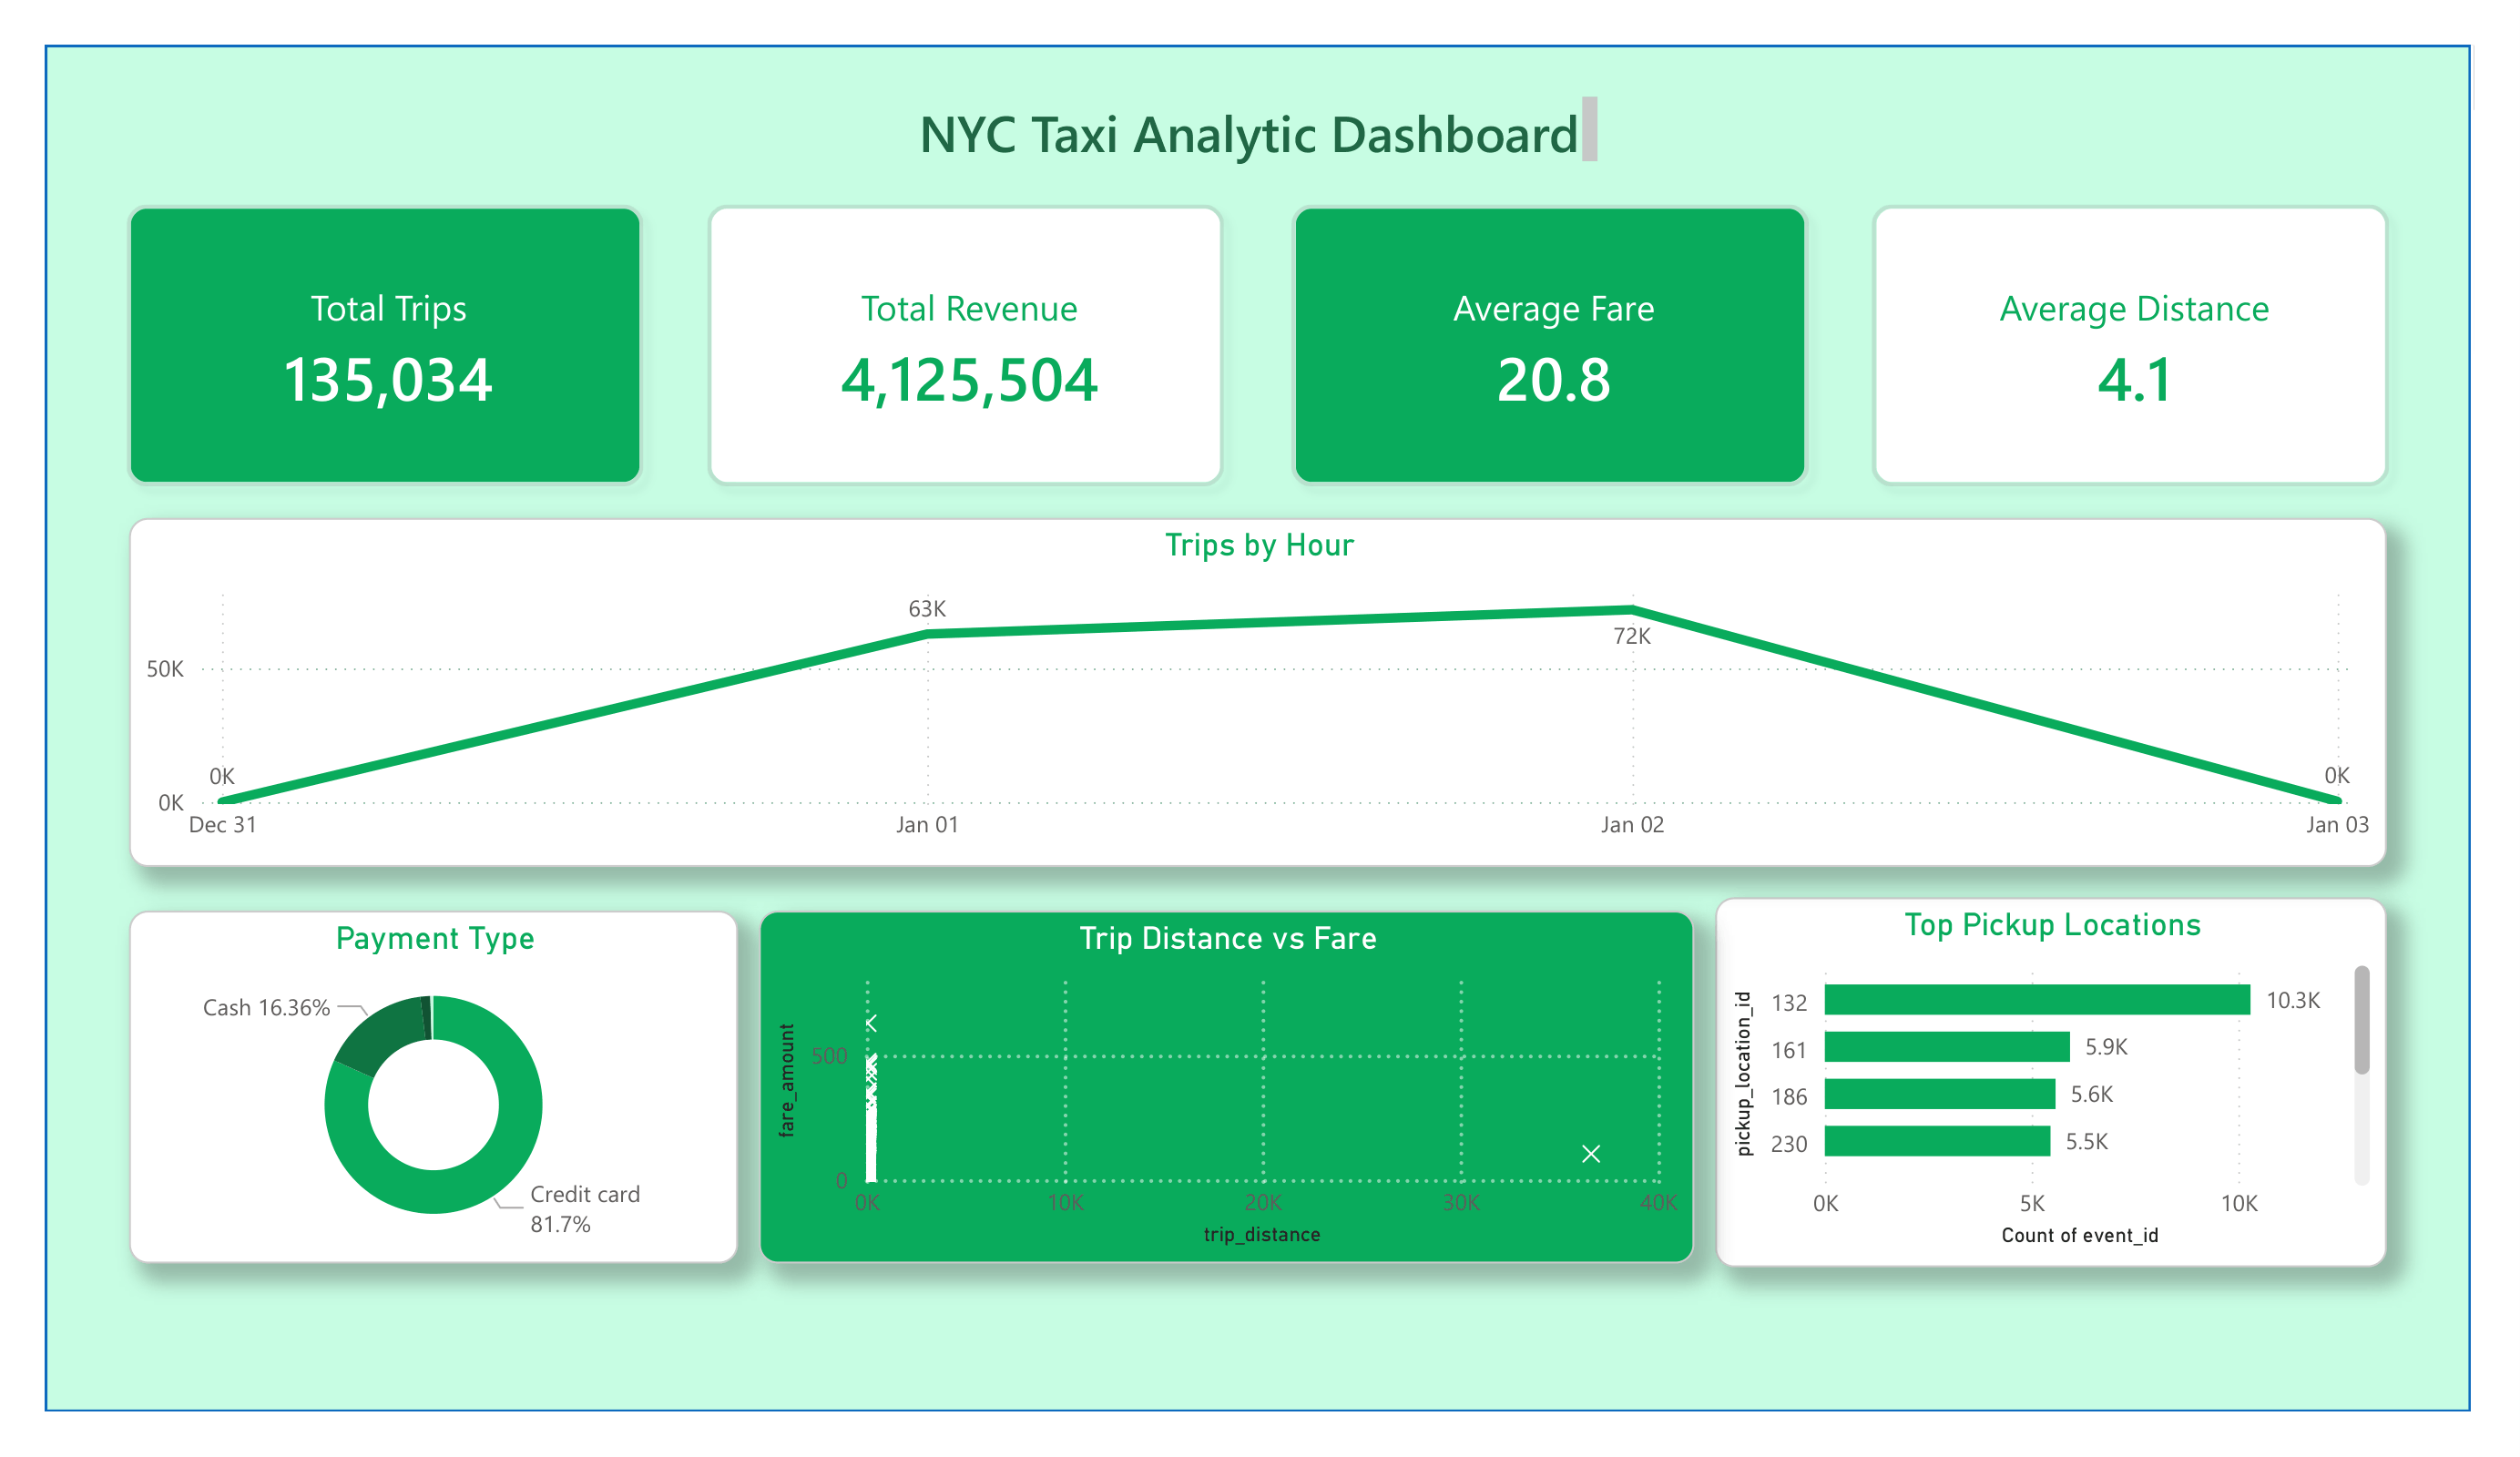

What the dashboard file says about the page in this screenshot:
{"tool":"powerbi","page":{"name":"Page 1","canvas":[1280,720],"ordinal":0},"visuals":[{"type":"shape","box":[0,0,1278.3,720],"z":0},{"type":"textbox","box":[454.2,22,369.1,45.3],"z":1000},{"type":"donutChart","title":"Payment Type","fields":{"Y":["CountNonNull(public taxi_trips.event_id)"],"Category":["public taxi_trips.payment_type"],"Series":["public taxi_trips.payment_method"]},"box":[43.9,455.6,321.1,186.6],"z":2000},{"type":"clusteredBarChart","title":"Top Pickup Locations","fields":{"Y":["CountNonNull(public taxi_trips.event_id)"],"Category":["public taxi_trips.pickup_location_id"]},"box":[879.6,448.7,354,194.9],"z":3000},{"type":"scatterChart","title":"Trip Distance vs Fare","fields":{"Y":["public taxi_trips.fare_amount"],"X":["public taxi_trips.trip_distance"]},"box":[376,455.6,492.6,186.6],"z":4000},{"type":"lineChart","title":"Trips by Hour","fields":{"Y":["CountNonNull(public taxi_trips.event_id)"],"Category":["public taxi_trips.pickup_datetime.Variation.Date Hierarchy.Year","public taxi_trips.pickup_datetime.Variation.Date Hierarchy.Month","public taxi_trips.pickup_datetime.Variation.Date Hierarchy.Day"]},"box":[44.2,249.4,1190.2,183.9],"z":5000},{"type":"cardVisual","fields":{"Data":["CountNonNull(public taxi_trips.event_id)"]},"box":[25.7,67,306.5,182.4],"z":6000},{"type":"cardVisual","fields":{"Data":["Sum(public taxi_trips.total_amount)"]},"box":[332.1,67,306.5,182.4],"z":7000},{"type":"cardVisual","fields":{"Data":["Avg(public taxi_trips.fare_amount)"]},"box":[640,67,306.5,182.4],"z":8000},{"type":"cardVisual","fields":{"Data":["Avg(public taxi_trips.trip_distance)"]},"box":[946.5,67,306.5,182.4],"z":9000}]}

Visuals, with their boxes on the page's 1280x720 design canvas (x1, y1, x2, y2). These are canvas units, not pixel positions in the 2520x1457 screenshot, which may show the page scaled, cropped or inside an application window:
shape: 0/0/1278/720
textbox: 454/22/823/67
"Payment Type" donutChart: 44/456/365/642
"Top Pickup Locations" clusteredBarChart: 880/449/1234/644
"Trip Distance vs Fare" scatterChart: 376/456/869/642
"Trips by Hour" lineChart: 44/249/1234/433
cardVisual - CountNonNull(public taxi_trips.event_id): 26/67/332/249
cardVisual - Sum(public taxi_trips.total_amount): 332/67/639/249
cardVisual - Avg(public taxi_trips.fare_amount): 640/67/946/249
cardVisual - Avg(public taxi_trips.trip_distance): 946/67/1253/249
